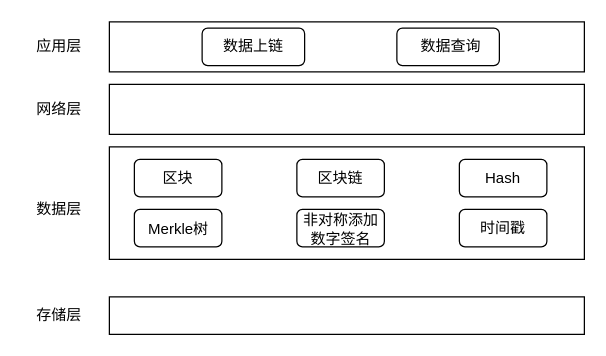
The diagram is 606 pixels wide and 356 high, and some of its shapes have lost their labels. The shapes that lost their labels are listed below. From the top down, each one's box as (x1, y1, x2, y2) in pixels, then its label:
(108, 83, 584, 134): P2P网络
(108, 296, 584, 334): SQLite
